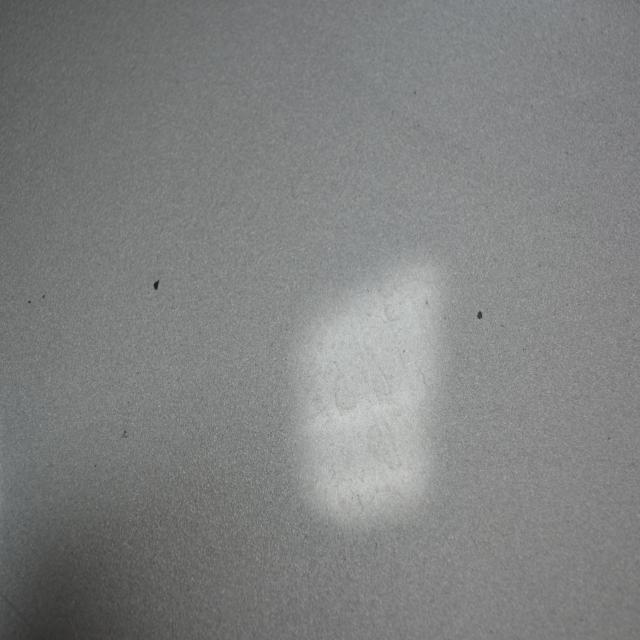dirt: (151, 271, 163, 296), (119, 425, 132, 442), (474, 305, 485, 324), (39, 290, 46, 301), (26, 296, 32, 307)
water marks: (355, 320, 405, 410), (316, 454, 376, 523), (316, 344, 362, 424), (361, 417, 409, 478)
